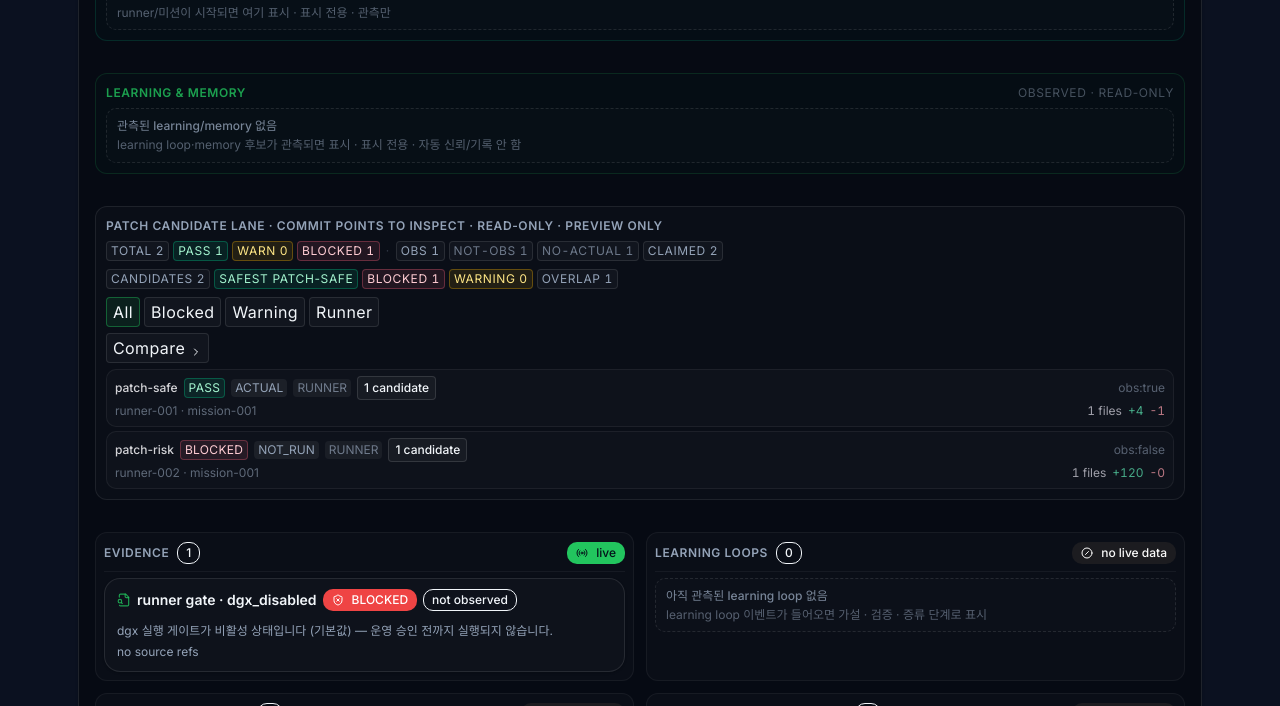
it: Batch 20 — patch compare board (toggle + lanes) › the Compare toggle is a local-view control; board hidden until opened
(page scrolled)
Click the button with test id "patch-compare-toggle" at (158, 348), box [106,332,209,362]
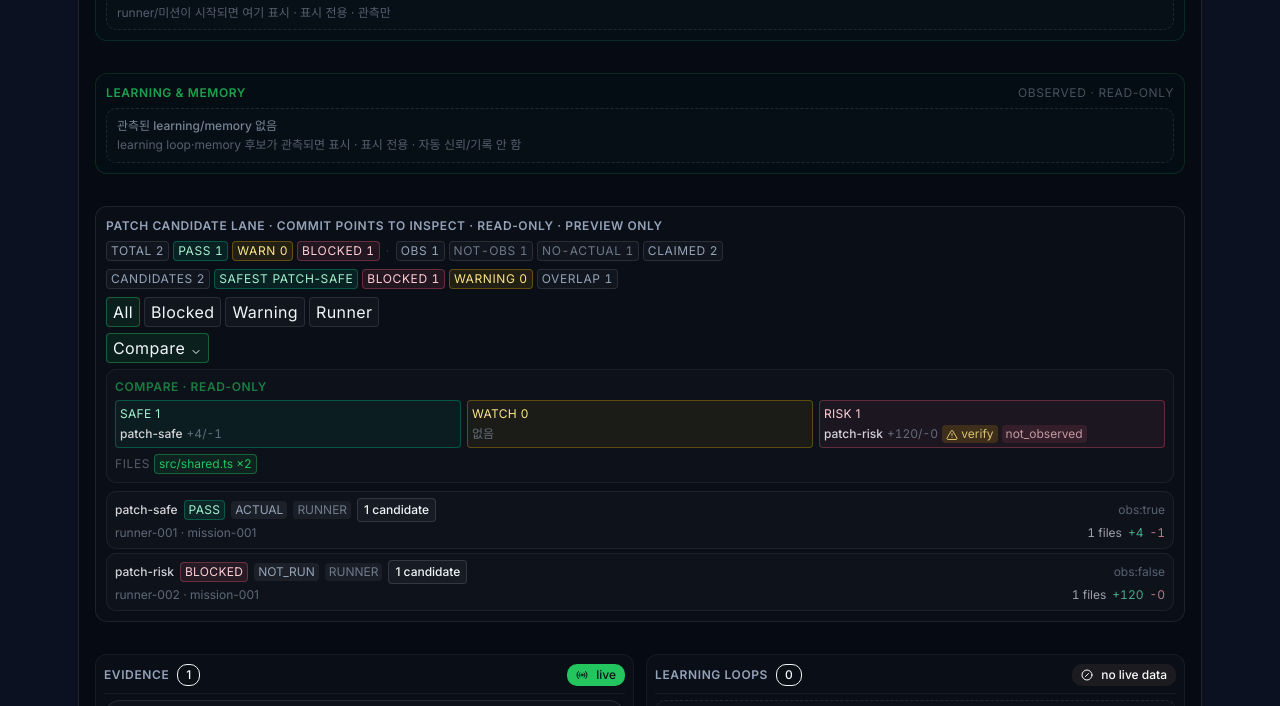
expect the element with test id "patch-compare-board" is shown: met, box [106,368,1174,482]
